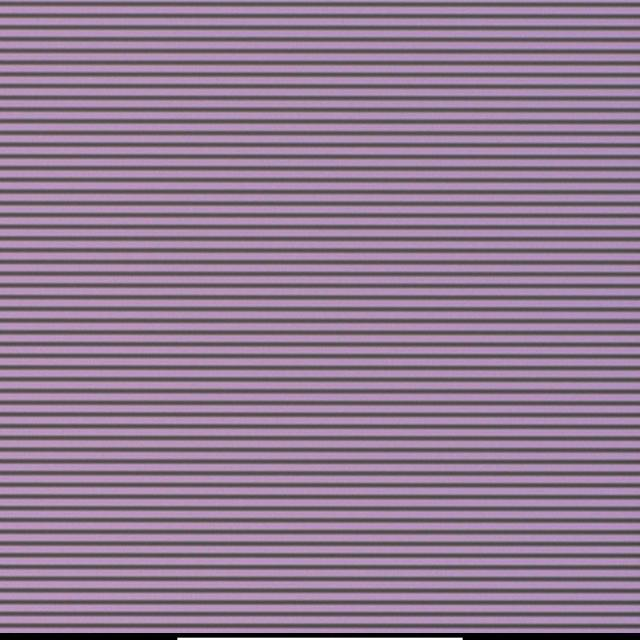nonvisual: (326, 326, 356, 352)
